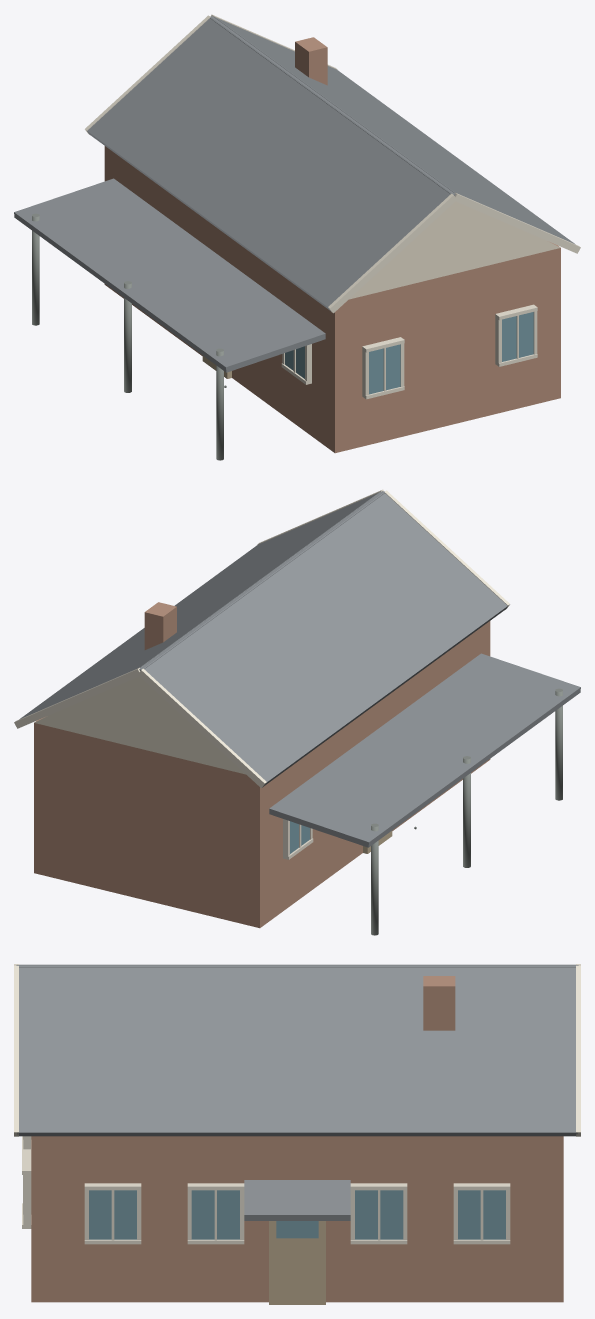
Rendered from tyne-station_lod0.glb.
The picture shows the model from 3 angles, top to bottom: view 1: azimuth 30°, elevation 25°; view 2: azimuth 150°, elevation 25°; view 3: azimuth 270°, elevation 25°; orthographic projection. The views are drawn at different scales.
Visible parts, largest first — view 1: RF_Roof.001, RF_Station_Body, RF_PlatformCanopy, RF_Roof, RF_Gable, RF_Vergeband.001, RF_Ridge, RF_Window.009, RF_Window, RF_StationChimney, RF_Vergeband.003, RF_CanopyColumn.001 (+3 smaller); view 2: RF_Roof.001, RF_Station_Body, RF_PlatformCanopy, RF_Roof, RF_Gable.001, RF_Vergeband.002, RF_Ridge, RF_StationChimney, RF_Vergeband, RF_CanopyColumn, RF_CanopyColumn.001, RF_CanopyColumn.002 (+1 smaller); view 3: RF_Roof, RF_Station_Body, RF_PublicAwning, RF_Station_Door, RF_Window.006, RF_Window.007, RF_Window.005, RF_Window.008, RF_StationChimney, RF_Ridge, RF_Roof.001, RF_Vergeband.003 (+6 smaller).
Boxes of the visible parts, x1,y1,x2,y2 form: RF_Roof.001: (87, 17, 451, 311); RF_Station_Body: (104, 146, 560, 453); RF_PlatformCanopy: (14, 178, 325, 372); RF_Roof: (214, 17, 575, 244); RF_Gable: (349, 201, 560, 299); RF_Vergeband.001: (328, 193, 456, 313); RF_Ridge: (210, 16, 455, 195); RF_Window.009: (369, 344, 400, 394); RF_Window: (502, 312, 533, 361); RF_StationChimney: (295, 37, 327, 85); RF_Vergeband.003: (455, 192, 580, 253); RF_CanopyColumn.001: (216, 348, 223, 460); RF_Roof.001: (143, 492, 507, 786); RF_Station_Body: (34, 621, 490, 928); RF_PlatformCanopy: (269, 653, 580, 847); RF_Roof: (19, 491, 381, 719); RF_Gable.001: (34, 676, 245, 774); RF_Vergeband.002: (138, 668, 266, 788); RF_Ridge: (139, 491, 384, 670); RF_StationChimney: (144, 602, 176, 649); RF_Vergeband: (14, 667, 139, 728); RF_CanopyColumn: (371, 823, 378, 935); RF_CanopyColumn.001: (555, 688, 562, 800); RF_CanopyColumn.002: (463, 756, 470, 867); RF_Roof: (17, 966, 577, 1136); RF_Station_Body: (31, 1136, 563, 1302); RF_PublicAwning: (244, 1180, 350, 1220); RF_Station_Door: (269, 1221, 325, 1304); RF_Window.006: (191, 1190, 239, 1239); RF_Window.007: (355, 1190, 403, 1239); RF_Window.005: (89, 1190, 136, 1239); RF_Window.008: (458, 1190, 505, 1239); RF_StationChimney: (423, 976, 455, 1030); RF_Ridge: (16, 965, 578, 967); RF_Roof.001: (19, 964, 575, 965); RF_Vergeband.003: (14, 966, 18, 1136).
Size of the model in its own units: 14.11 by 8.7 by 15.98.
